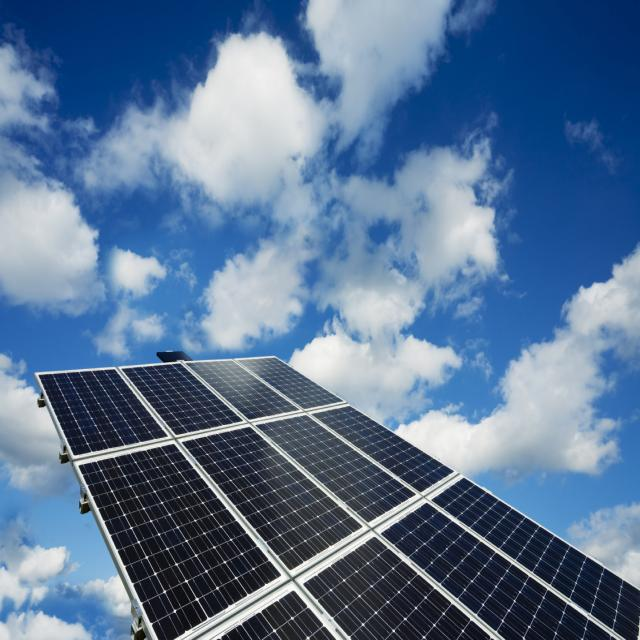no faulty: (41, 358, 640, 640)
